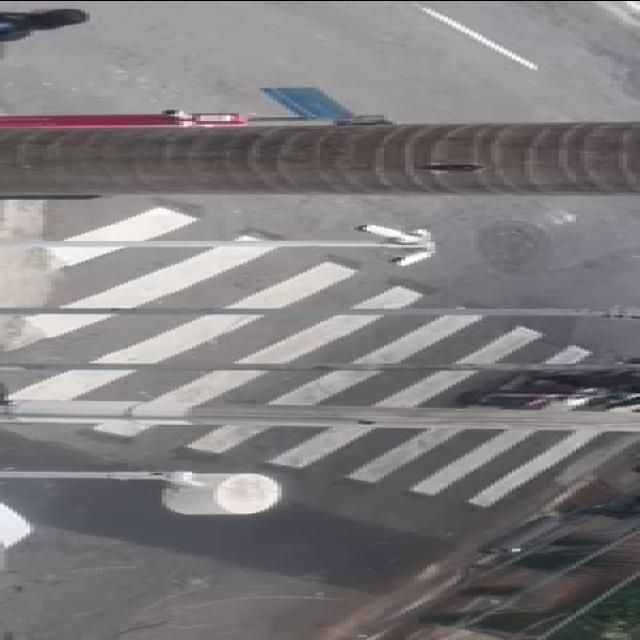motorbike: (480, 352, 640, 420)
